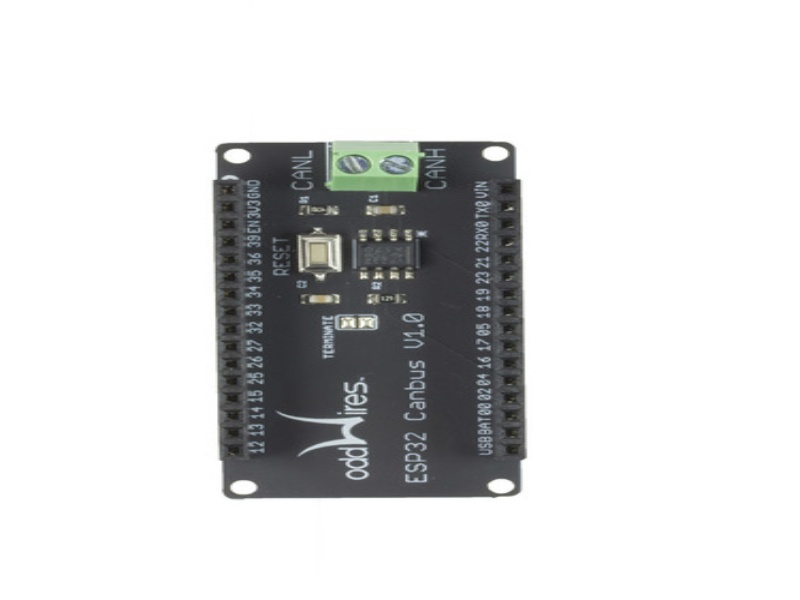esp32: (186, 135, 555, 506)
